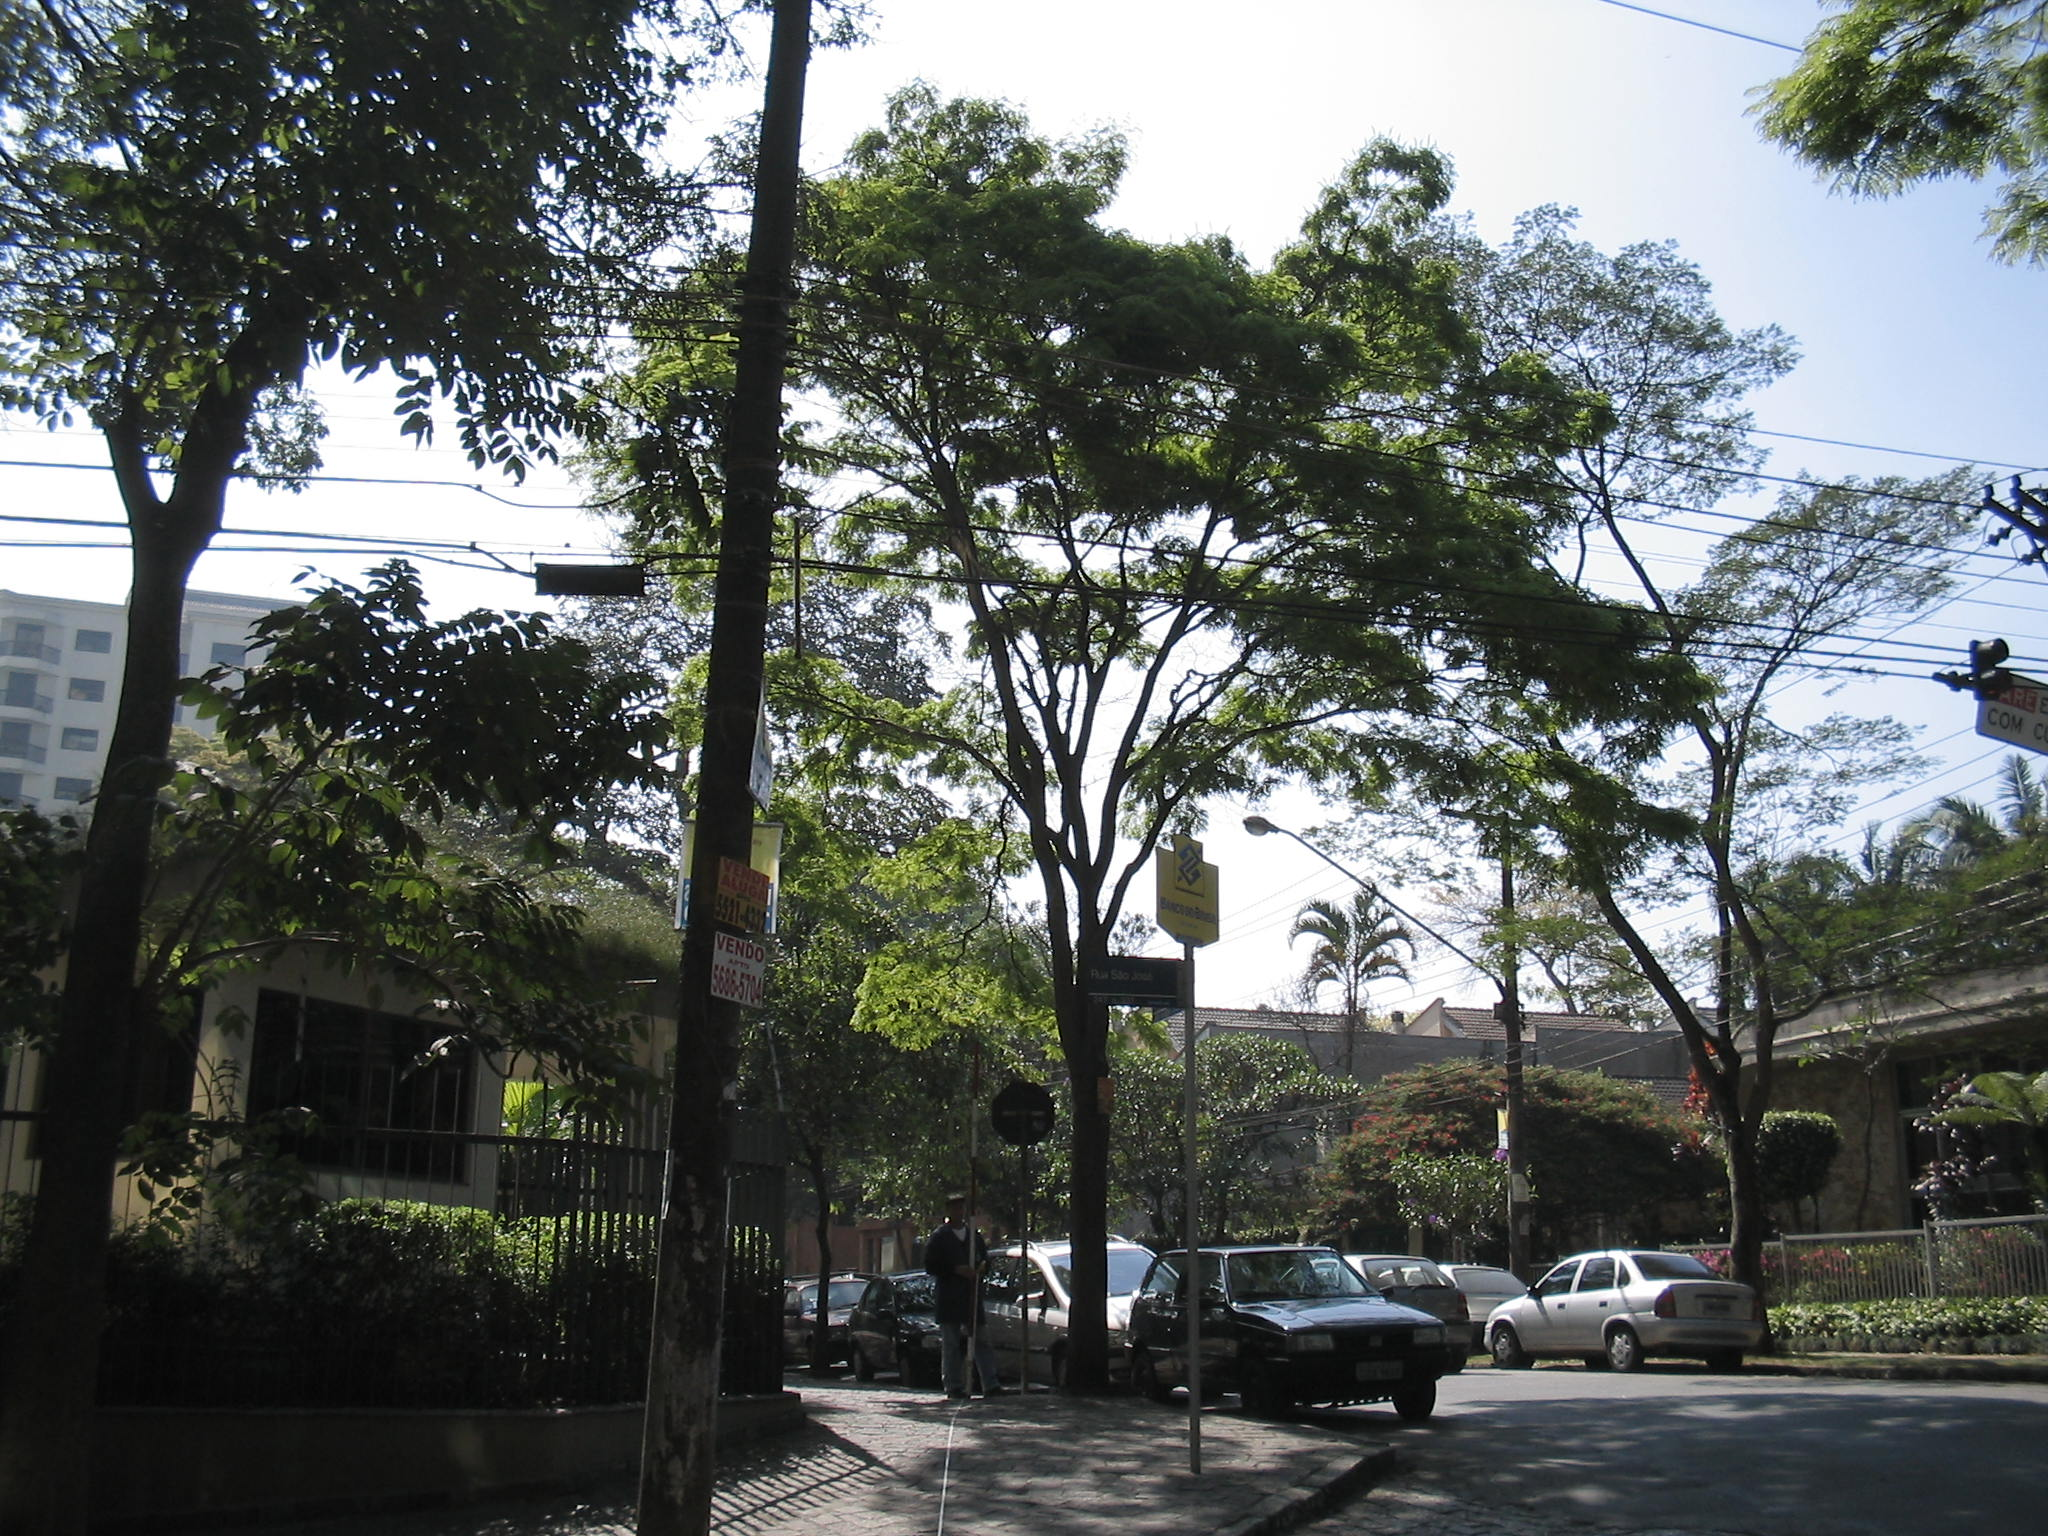crown: (627, 86, 1705, 908), (10, 10, 658, 515)
stem: (3, 520, 223, 1536), (1022, 1025, 1138, 1396), (1708, 1149, 1808, 1352)
stick: (948, 1042, 1008, 1396)
tree: (619, 82, 1705, 1399), (3, 5, 664, 1536), (1546, 460, 2009, 1355)
